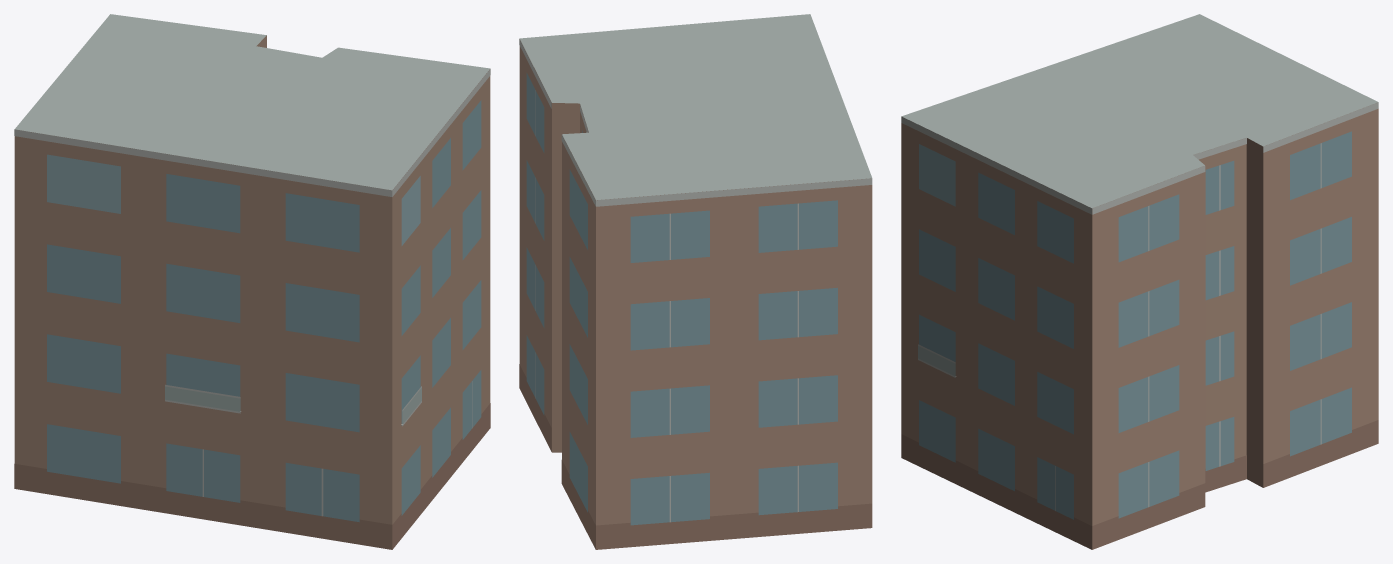
The model's file is survey-upis-32724241.glb.
3 views of the same model, side by side, from view 1: azimuth 30°, elevation 25°; view 2: azimuth 150°, elevation 25°; view 3: azimuth 270°, elevation 25° (orthographic). The views are drawn at different scales.
Parts seen in each view (by area): view 1: survey-upis-32724241.tmp; view 2: survey-upis-32724241.tmp; view 3: survey-upis-32724241.tmp.
Part boxes in pixels (x1,y1,x2,y2): survey-upis-32724241.tmp: (14, 14, 490, 549); survey-upis-32724241.tmp: (519, 14, 872, 549); survey-upis-32724241.tmp: (901, 14, 1378, 549).
Size of the model in its own units: 15.76 by 12.9 by 16.35.
